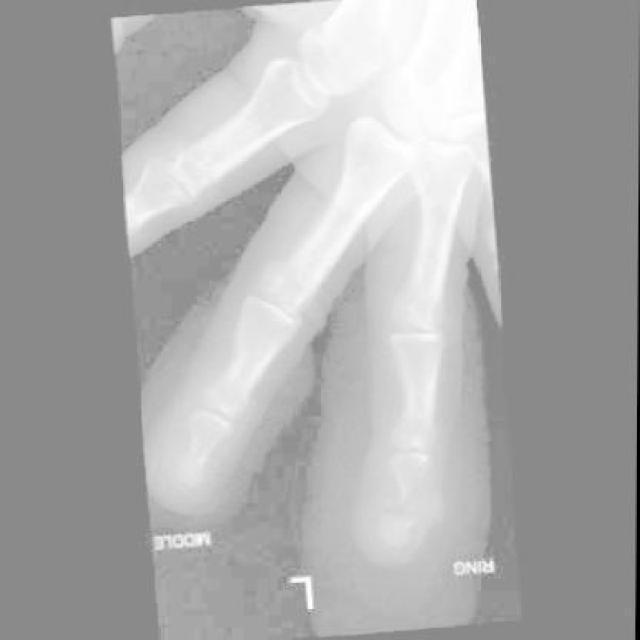Fracture: (379, 462, 446, 550)
